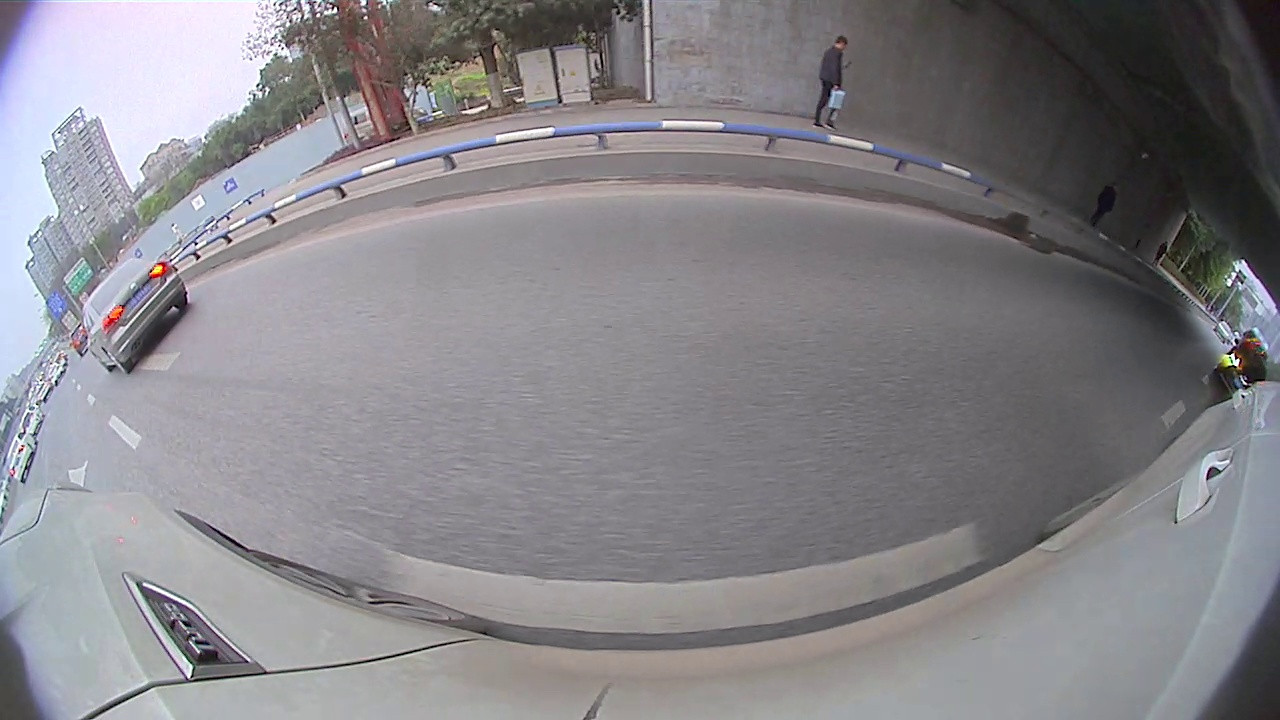car: (79, 256, 189, 377), (1213, 341, 1271, 396), (3, 431, 40, 483)
front: (88, 347, 112, 375)
person: (822, 34, 849, 131), (1100, 181, 1118, 234)
rear: (102, 347, 139, 376), (168, 289, 194, 315)
